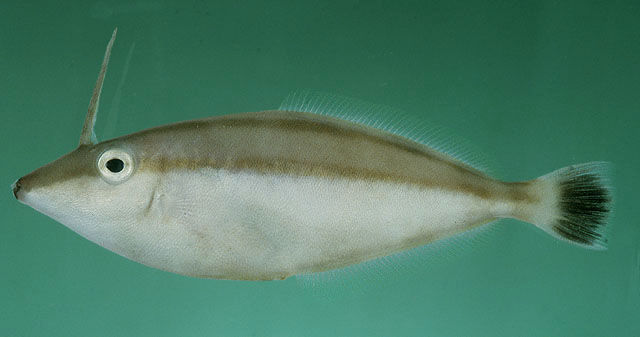fish: (12, 29, 617, 282)
